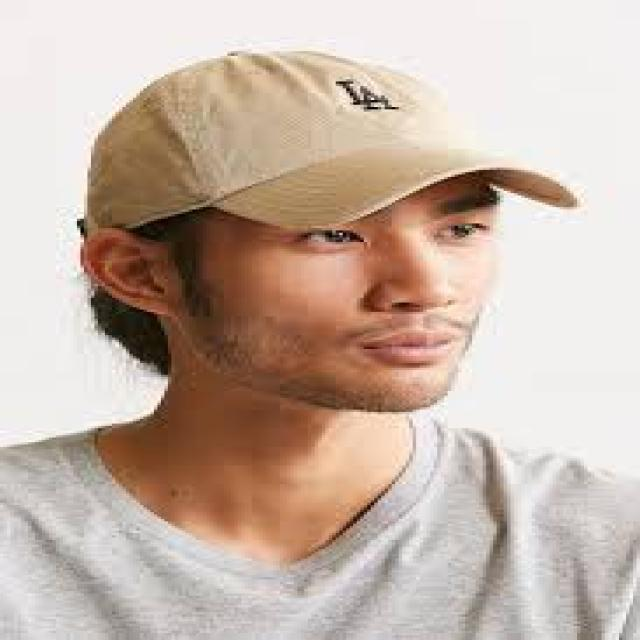cap: (63, 15, 638, 278)
